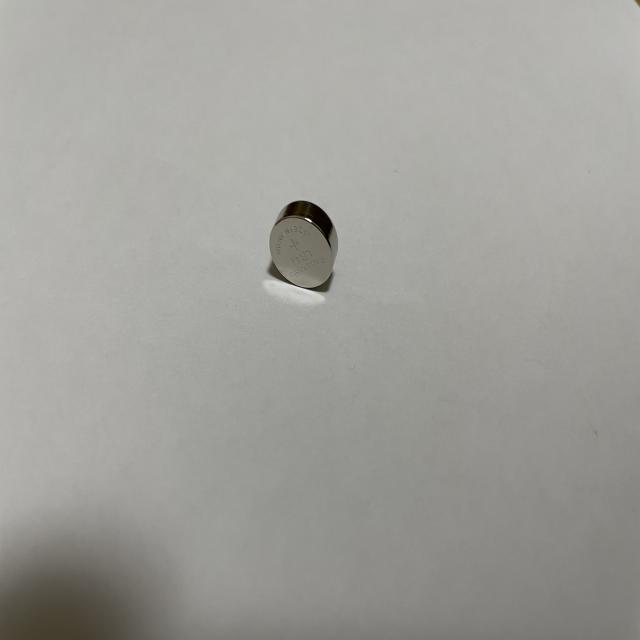COIN: (269, 200, 340, 292)
